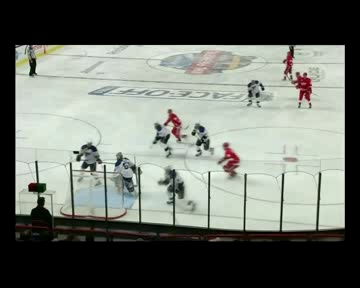normal: (147, 106, 193, 154), (71, 141, 103, 187), (242, 74, 267, 113)
